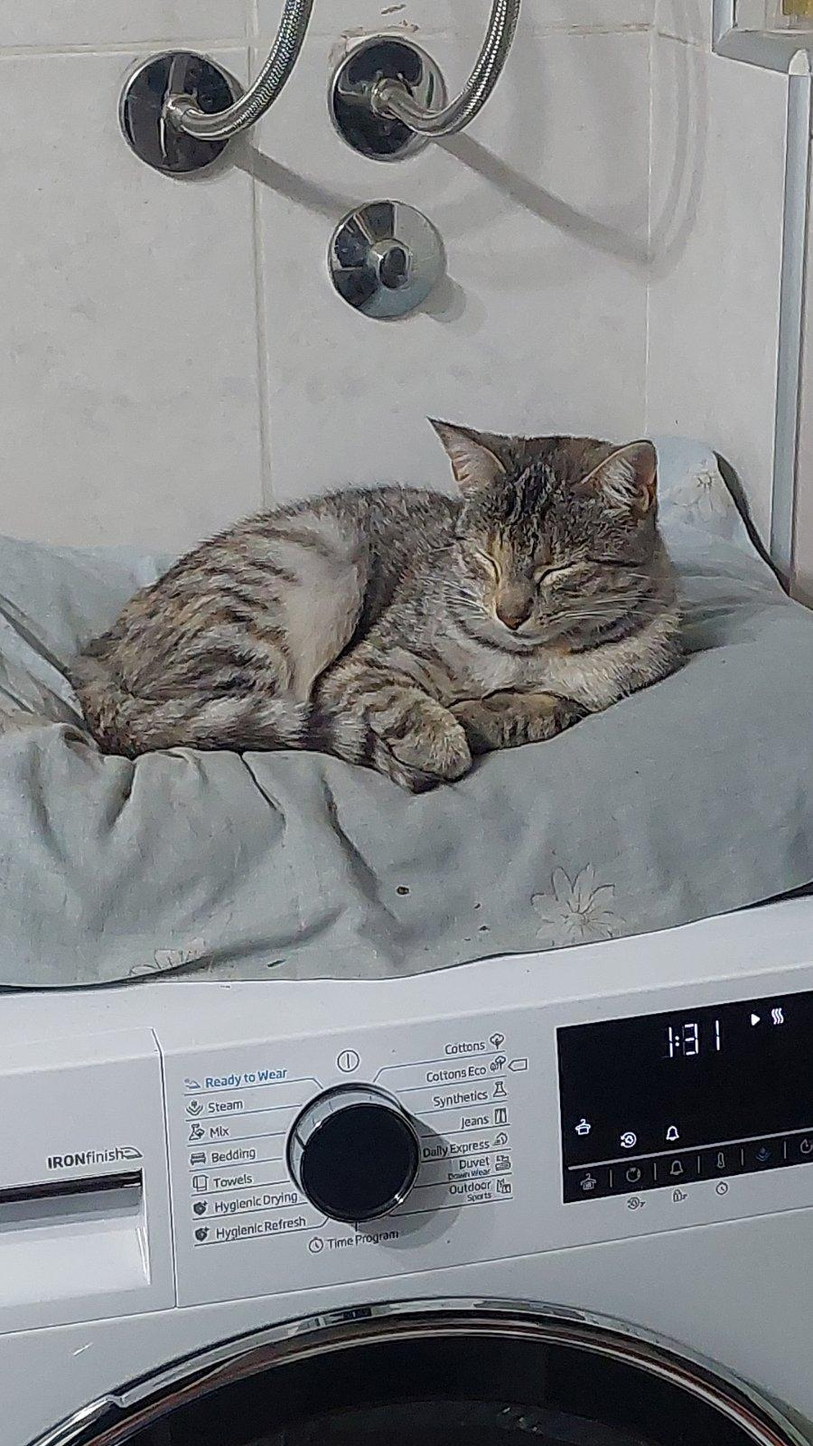macka: (75, 414, 680, 798)
